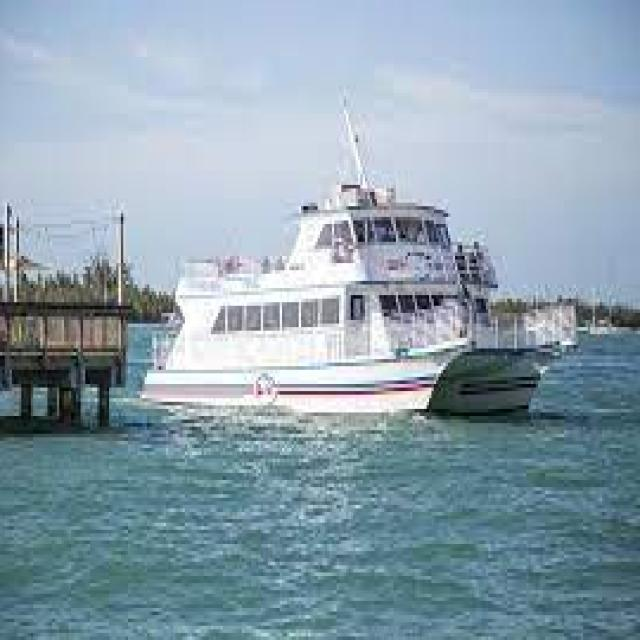passenger ship: (143, 178, 570, 412)
